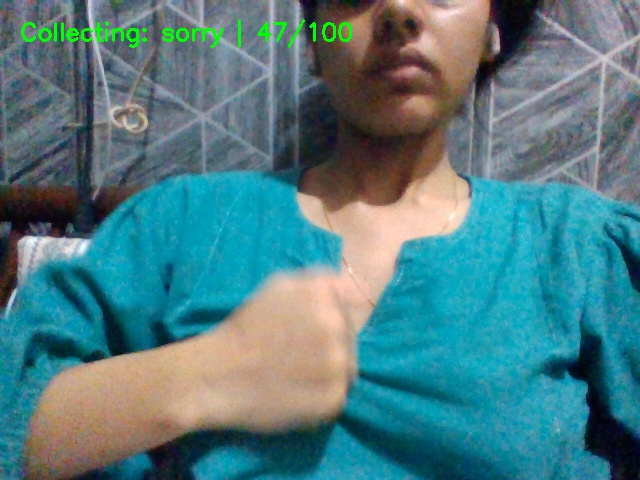sorry: (194, 250, 383, 449)
